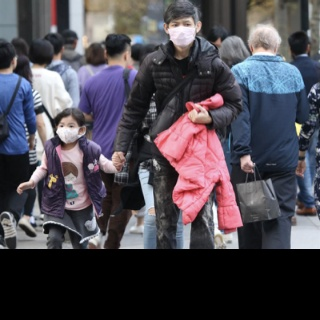with_mask: (166, 19, 197, 46), (55, 121, 79, 144)
